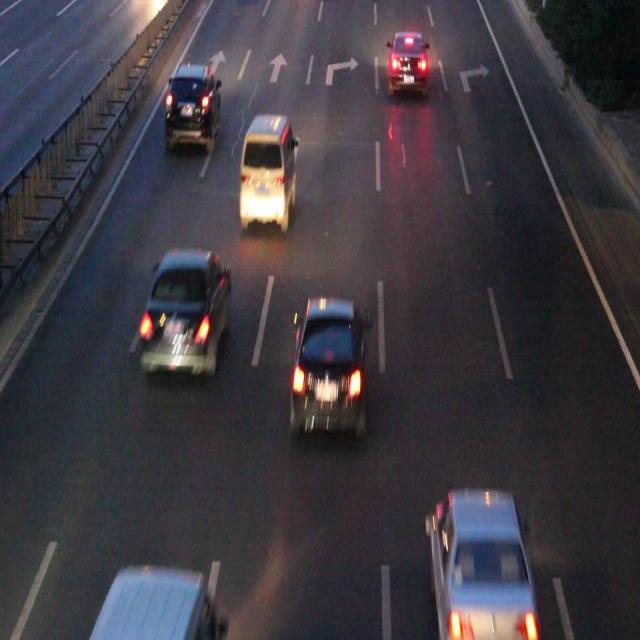car: (426, 492, 534, 640), (142, 250, 230, 370), (292, 298, 365, 432), (165, 67, 220, 144), (386, 34, 427, 89)
truck: (240, 115, 294, 223)
